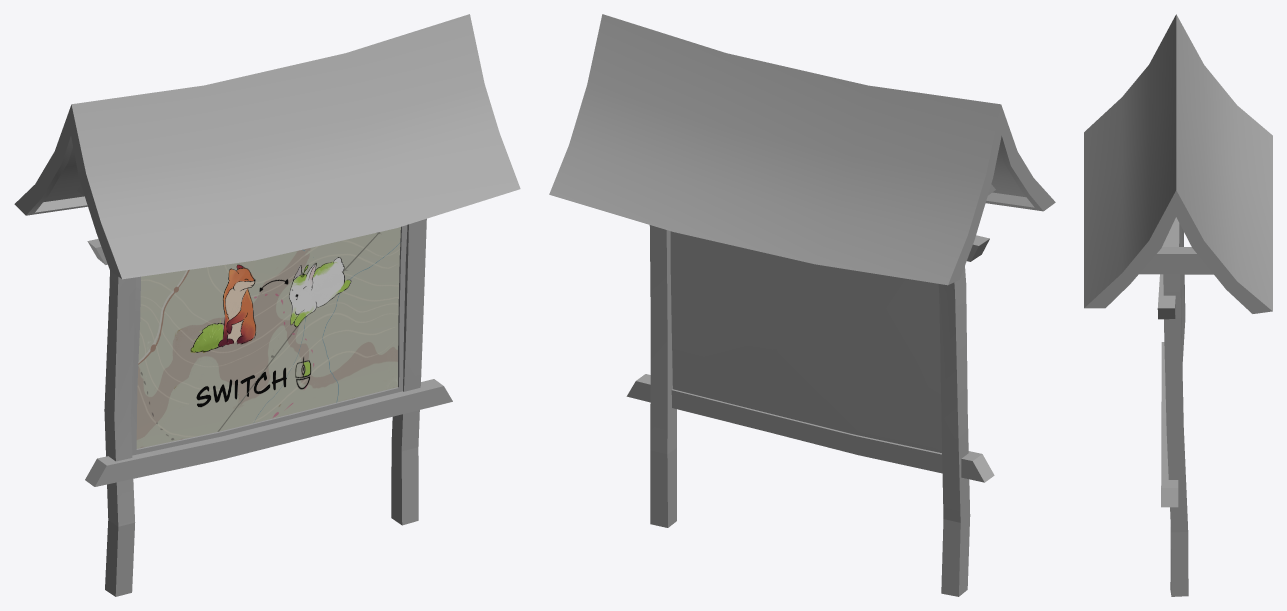
Rendered from Post_big_switch.fbx.
3 views of the same model, side by side, from view 1: azimuth 30°, elevation 25°; view 2: azimuth 150°, elevation 25°; view 3: azimuth 270°, elevation 25° (orthographic). The views are drawn at different scales.
Visible parts, largest first — view 1: Post_Big; view 2: Post_Big; view 3: Post_Big.
Boxes of the visible parts, left/top/right/bottom form: Post_Big: left=14, top=14, right=520, bottom=596; Post_Big: left=549, top=14, right=1055, bottom=596; Post_Big: left=1084, top=14, right=1272, bottom=596.
Bounding box in the file's own units: 5.46 × 6.5 × 2.55.
2 materials, 1 textured.
